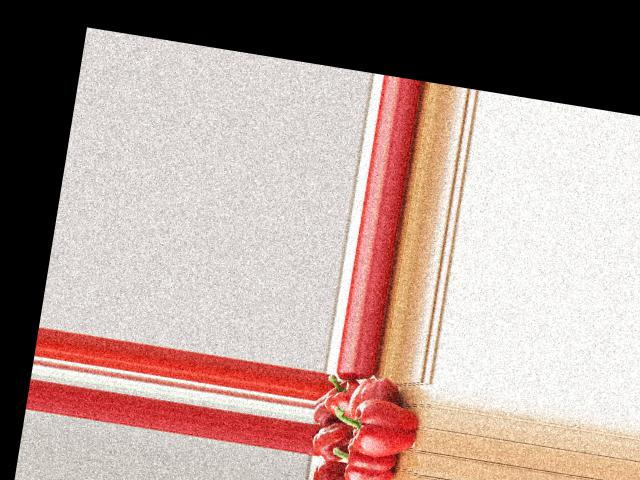bell_pepper: (321, 371, 362, 418)
